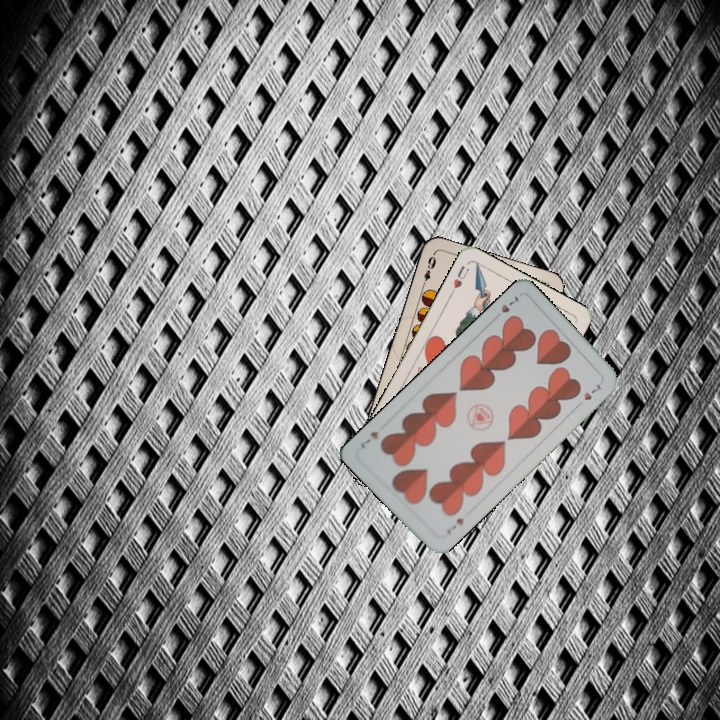E9: (418, 250, 439, 290)
H7: (497, 291, 521, 315), (443, 514, 466, 537)
HU: (447, 261, 472, 297)
